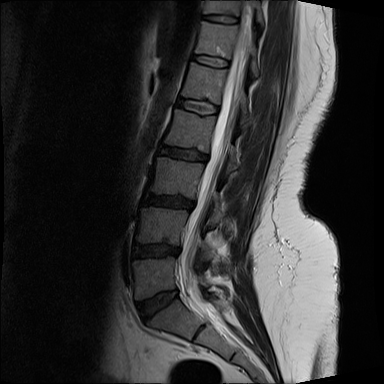Degenerative Disc Disease (DDD): (150, 141, 213, 168), (137, 189, 197, 213)
Lumbar Disc Bulge (LDB): (129, 280, 184, 330), (134, 188, 201, 215), (123, 234, 185, 262)
Normal IVD: (173, 93, 220, 119), (189, 51, 232, 71), (198, 9, 241, 26)
Spinal Stenosis (SS): (169, 239, 188, 262), (200, 147, 216, 167)
